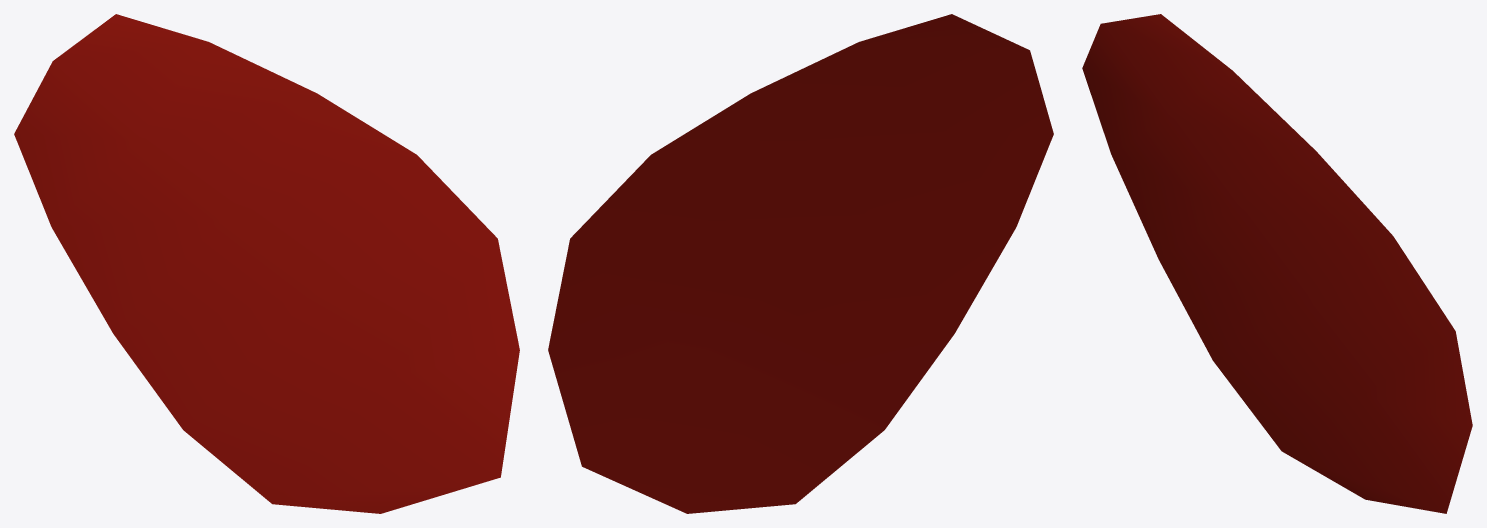
Rendered from ara_feather_flight_tertiary_026.obj.
3 renders of one model, left to right at view 1: azimuth 30°, elevation 25°; view 2: azimuth 150°, elevation 25°; view 3: azimuth 330°, elevation 25°, orthographic. The views are drawn at different scales.
Visible parts, largest first — view 1: feather_flight_tertiary_026; view 2: feather_flight_tertiary_026; view 3: feather_flight_tertiary_026.
Boxes of the visible parts, bbox=[...] form: feather_flight_tertiary_026: bbox=[14, 14, 519, 513]; feather_flight_tertiary_026: bbox=[548, 14, 1053, 513]; feather_flight_tertiary_026: bbox=[1082, 14, 1472, 513].
Bounding box in the file's own units: 0.0285 × 0.0304 × 0.000724.
